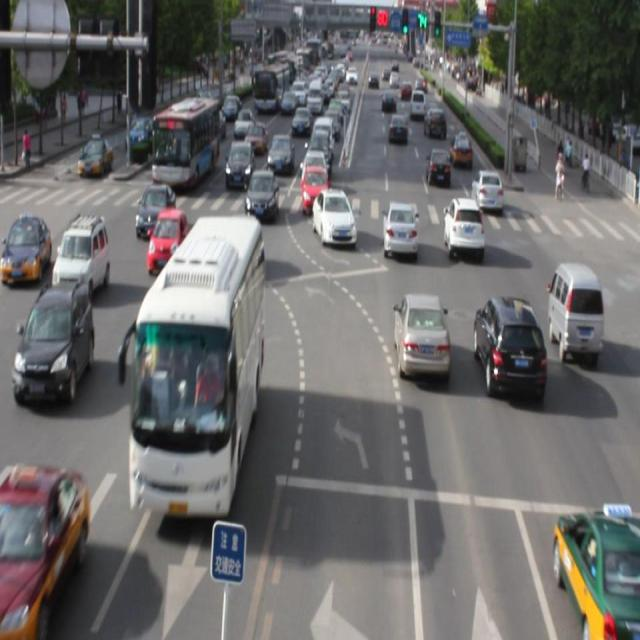car: (1, 463, 86, 627), (554, 507, 640, 639), (16, 281, 94, 399), (474, 293, 544, 399), (394, 290, 448, 378), (310, 188, 357, 246), (148, 207, 187, 272), (443, 197, 482, 256), (137, 183, 176, 239), (381, 201, 417, 255)
truck: (548, 260, 600, 356)
van: (129, 218, 262, 512)
